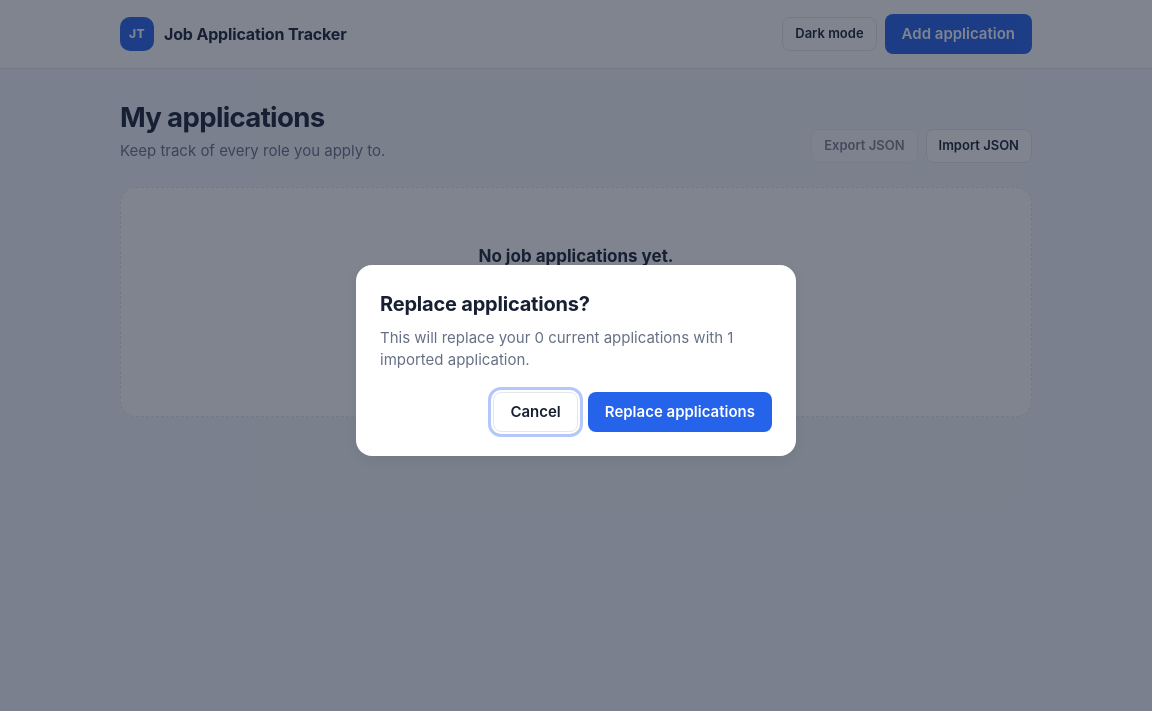
Scenario: imports a JSON backup after confirmation
This screenshot has width=1152, height=711.
Earlier steps of the test are not shown.
Click the button "Replace applications": (680, 412) top-left (588, 392), bottom-right (772, 432)
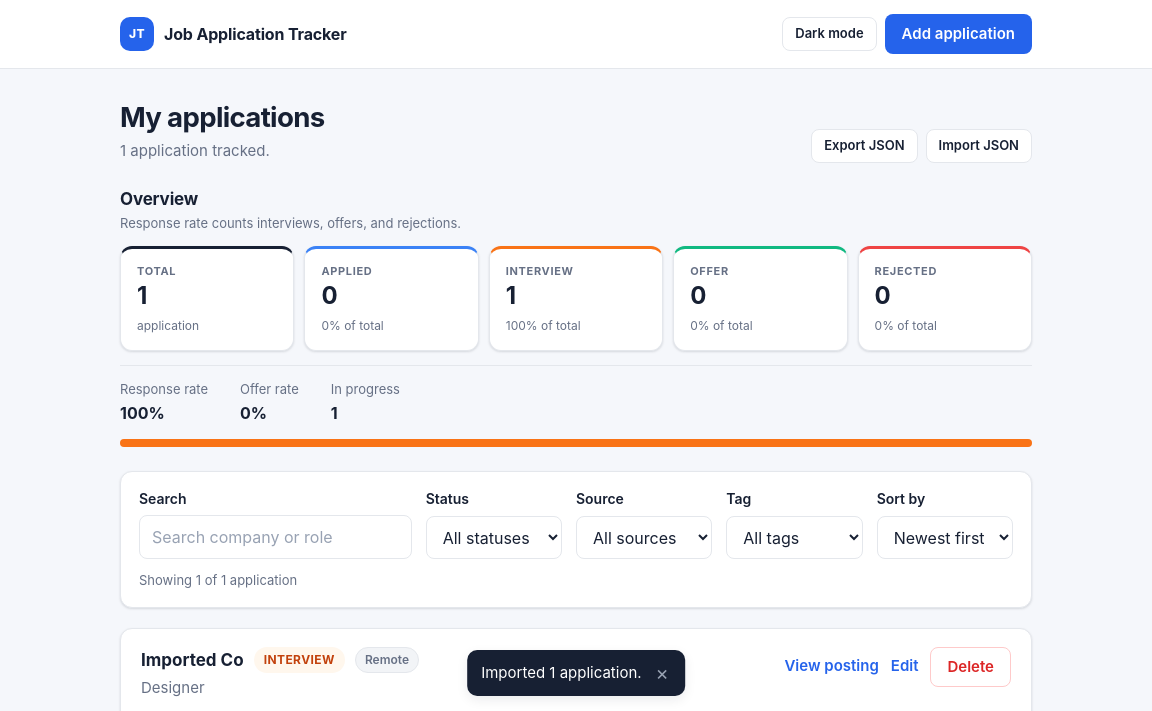
Check: the heading "Imported Co" is shown, box top-left (141, 648), bottom-right (244, 671)
Check: the message shows "Imported 1 application.", box top-left (481, 662), bottom-right (642, 682)
